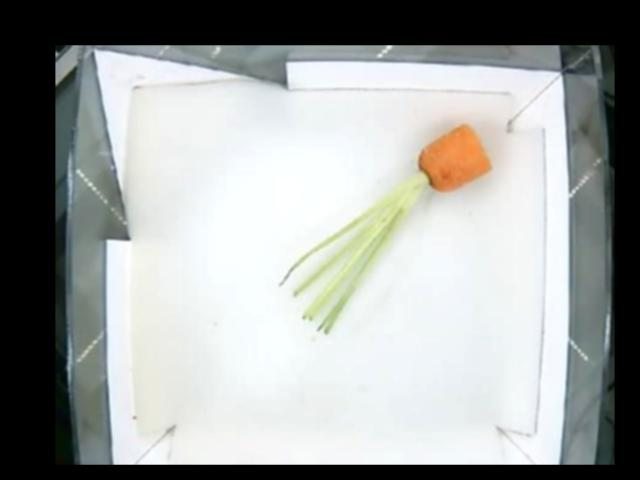Carrot: (372, 122, 493, 226)
